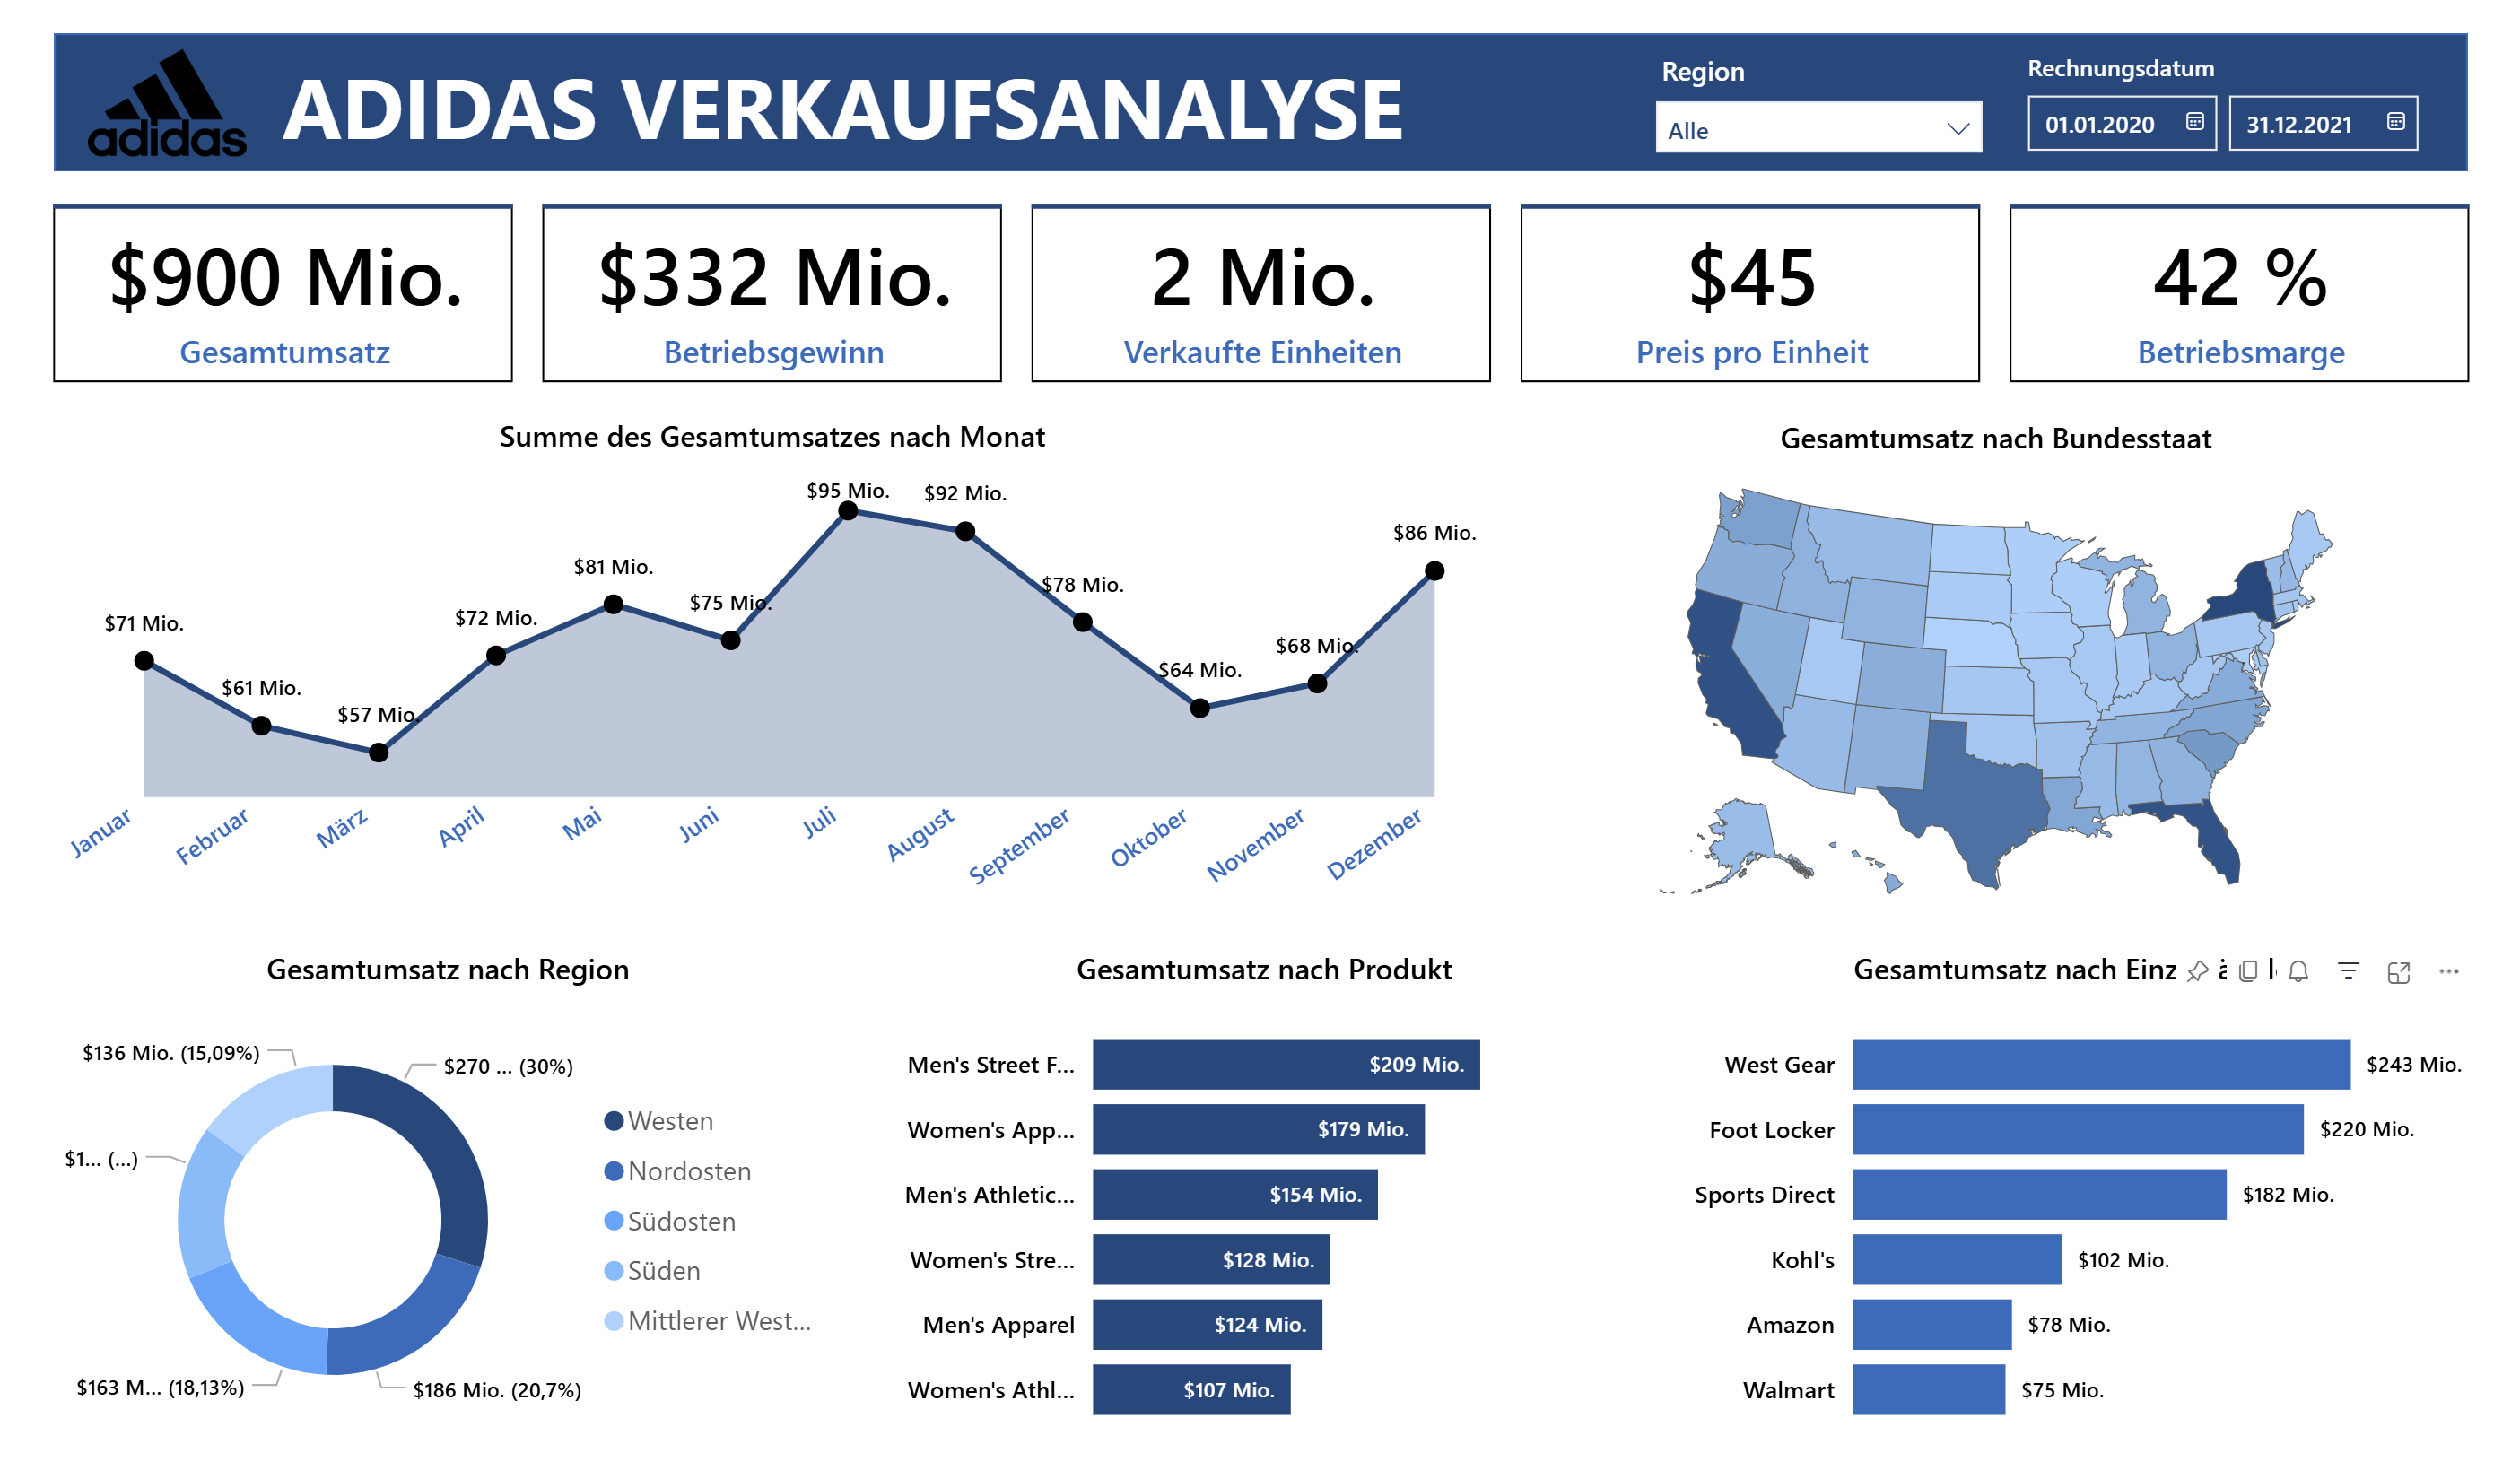

What the dashboard file says about the page in this screenshot:
{"tool":"powerbi","page":{"name":"Seite 1","canvas":[1280,720],"ordinal":0},"visuals":[{"type":"shape","box":[27.3,0,1224.1,70.2],"z":0},{"type":"textbox","box":[133.6,2.3,587.5,66.8],"z":1000},{"type":"cardVisual","fields":{"Data":["Sum(Data Sales Adidas.Total Sales)","Sum(Data Sales Adidas.Operating Profit)","Sum(Data Sales Adidas.Units Sold)","Avg(Data Sales Adidas.Price per Unit)","Avg(Data Sales Adidas.Operating Margin)"]},"box":[10.4,70.3,1261.4,124.4],"z":2000},{"type":"areaChart","title":"Summe des Gesamtumsatzes nach Monat","fields":{"Category":["Data Sales Adidas.Monat"],"Y":["Sum(Data Sales Adidas.Total Sales)"]},"box":[27.7,193.8,729,259.7],"z":3000},{"type":"shapeMap","title":"Gesamtumsatz nach Bundesstaat","fields":{"Category":["Data Sales Adidas.State"],"Value":["Sum(Data Sales Adidas.Total Sales)"]},"box":[771.8,194.7,481.5,258],"z":4000},{"type":"donutChart","title":"Gesamtumsatz nach Region","fields":{"Category":["Data Sales Adidas.Region_DE"],"Y":["Sum(Data Sales Adidas.Total Sales)"]},"box":[27.6,464.3,400,255.7],"z":5000},{"type":"barChart","title":"Gesamtumsatz nach Produkt","fields":{"Category":["Data Sales Adidas.Product"],"Y":["Sum(Data Sales Adidas.Total Sales)"]},"box":[441.2,464.3,400,255.7],"z":6000},{"type":"barChart","title":"Gesamtumsatz nach Einzelhändler","fields":{"Category":["Data Sales Adidas.Retailer"],"Y":["Sum(Data Sales Adidas.Total Sales)"]},"box":[853.6,464.3,400,255.7],"z":7000},{"type":"slicer","fields":{"Values":["Data Sales Adidas.Region_DE"]},"box":[829.4,4.6,185.5,61.1],"z":8000},{"type":"slicer","fields":{"Values":["Data Sales Adidas.Invoice Date"]},"box":[1015.4,3.5,217.7,65.7],"z":9000},{"type":"image","box":[44.9,0,80.6,70.3],"z":10000}]}

Visuals, with their boxes on the page's 1280x720 design canvas (x1, y1, x2, y2). These are canvas units, not pixel positions in the 2520x1479 screenshot, which may show the page scaled, cropped or inside an application window:
shape: <box>27,0,1251,70</box>
textbox: <box>134,2,721,69</box>
cardVisual - Sum(Data Sales Adidas.Total Sales) x Sum(Data Sales Adidas.Operating Profit): <box>10,70,1272,195</box>
"Summe des Gesamtumsatzes nach Monat" areaChart: <box>28,194,757,454</box>
"Gesamtumsatz nach Bundesstaat" shapeMap: <box>772,195,1253,453</box>
"Gesamtumsatz nach Region" donutChart: <box>28,464,428,720</box>
"Gesamtumsatz nach Produkt" barChart: <box>441,464,841,720</box>
"Gesamtumsatz nach Einzelhändler" barChart: <box>854,464,1254,720</box>
slicer - Data Sales Adidas.Region_DE: <box>829,5,1015,66</box>
slicer - Data Sales Adidas.Invoice Date: <box>1015,4,1233,69</box>
image: <box>45,0,126,70</box>
